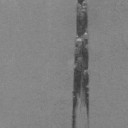slag inclusion: (72, 0, 90, 128)
